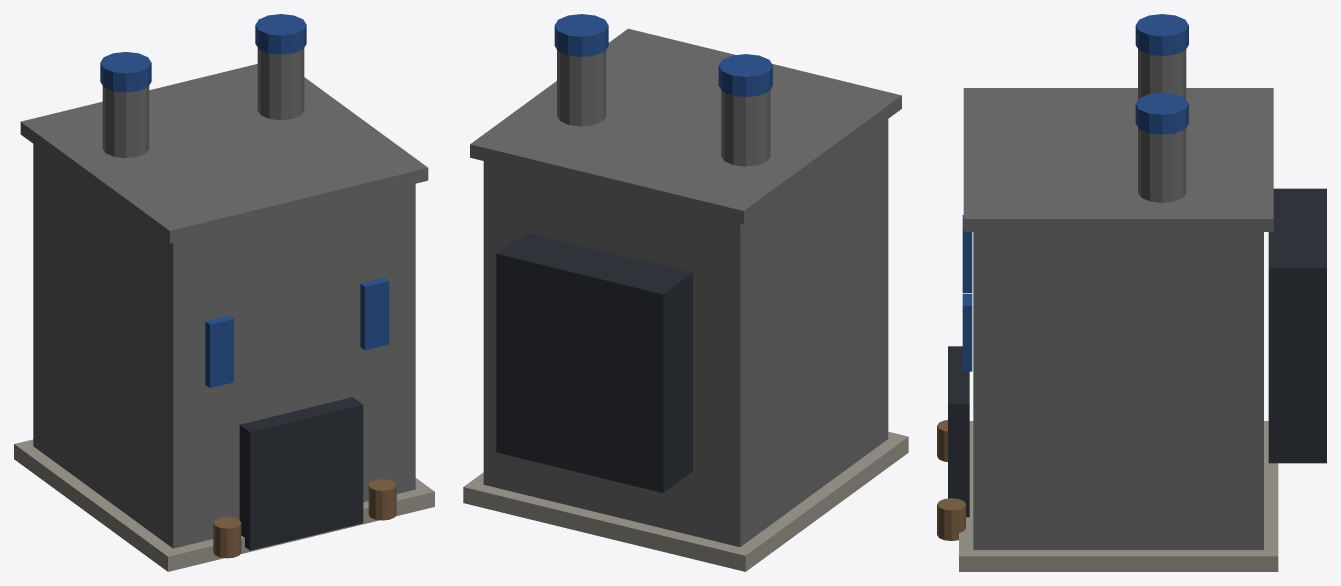
The model's file is bld_industrial_a10.glb.
3 renders of one model, left to right at view 1: azimuth 30°, elevation 25°; view 2: azimuth 150°, elevation 25°; view 3: azimuth 270°, elevation 25°, orthographic. The views are drawn at different scales.
Visible parts, largest first — view 1: body; view 2: body; view 3: body.
Boxes of the visible parts, x1,y1,x2,y2 form: body: (14,14,434,571); body: (463,14,908,571); body: (937,14,1326,571).
Size of what is drawn, in the model's own units: 6.6 by 10.02 by 8.05.
